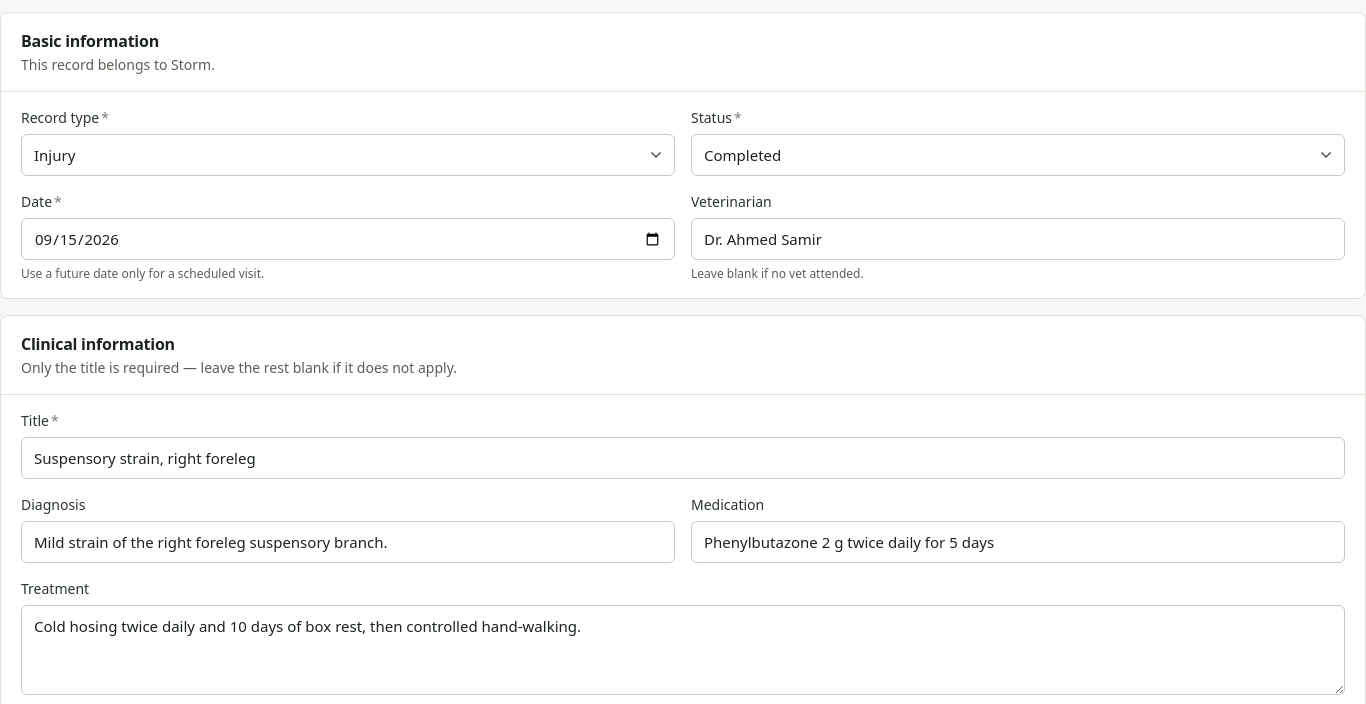
Test: MedicalEditPage (Edit medical record) › uses the same validation as the create form
The width and height of the screenshot is (1366, 704).
Clear the field labelled "Title*" at coordinates (683, 458), box [21,437,1345,479]
(page scrolled)
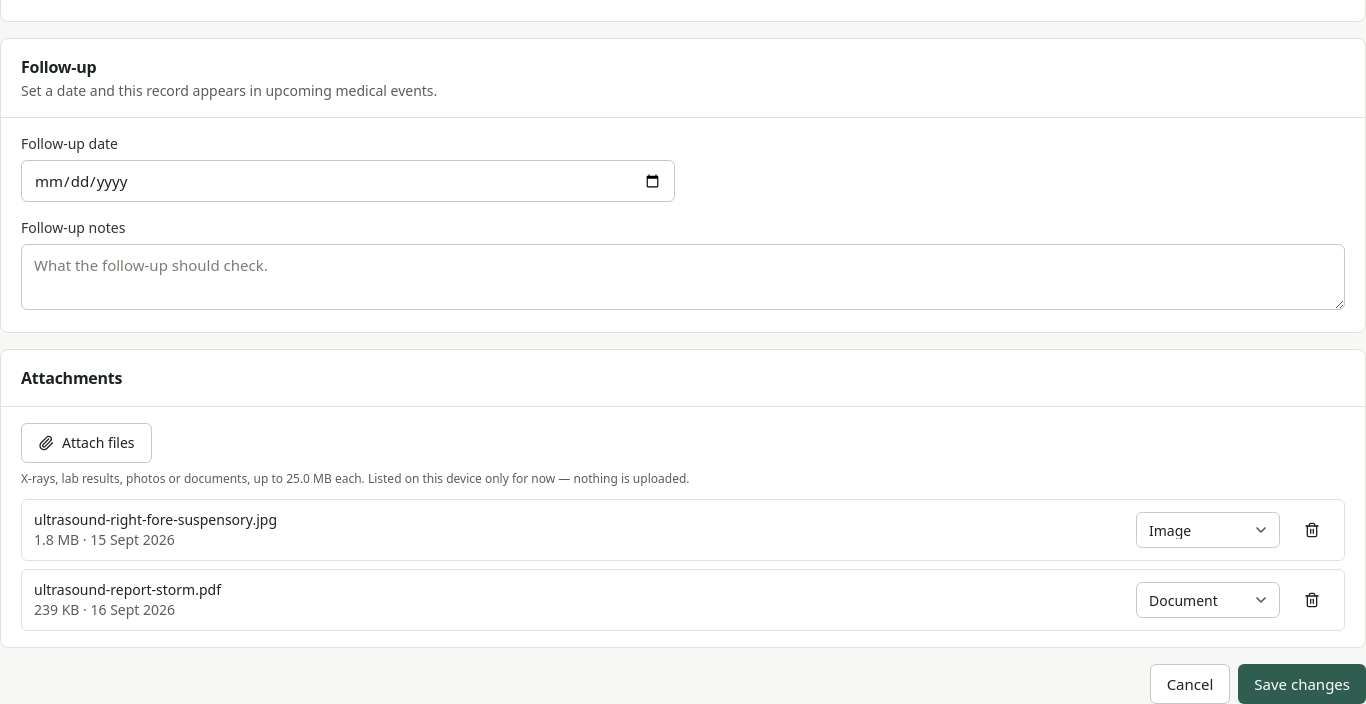
Click the button "Save changes" at coordinates (1302, 684), box [1238,664,1365,703]
(page scrolled)
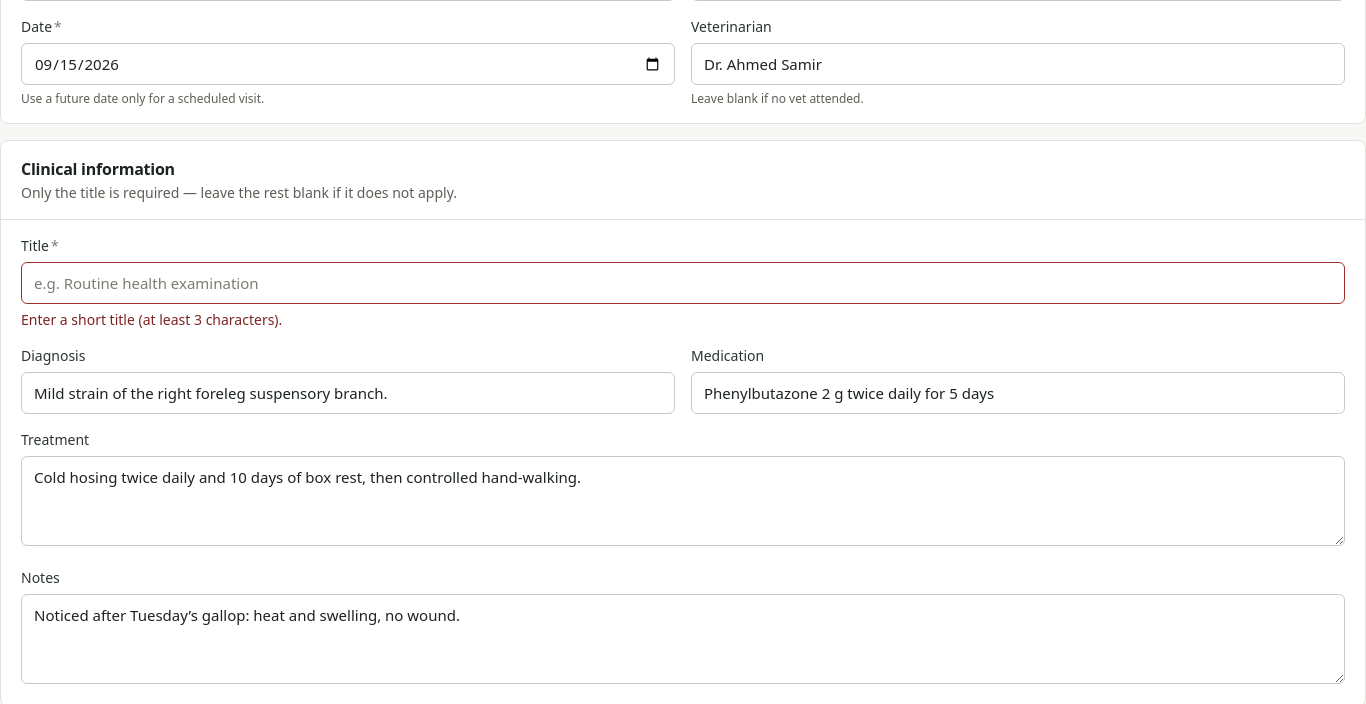
Check: the text "Enter a short title (at least 3 characters)." is shown, box [21,310,282,329]
